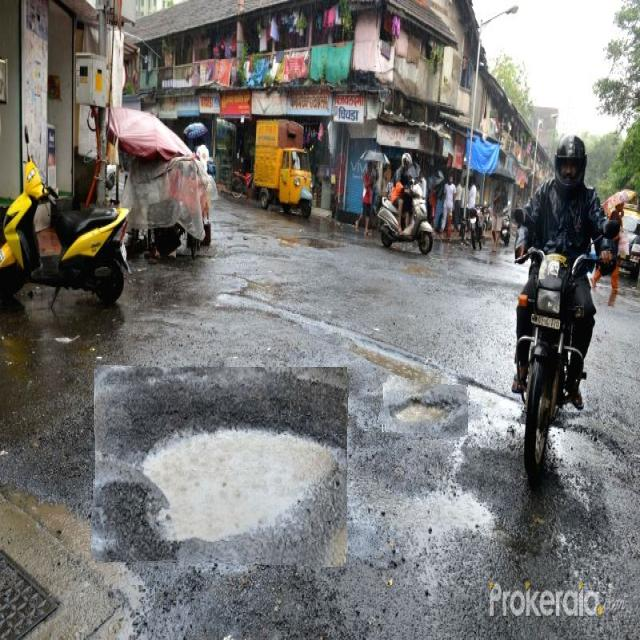Pothole: (93, 367, 347, 565), (380, 378, 468, 437)
